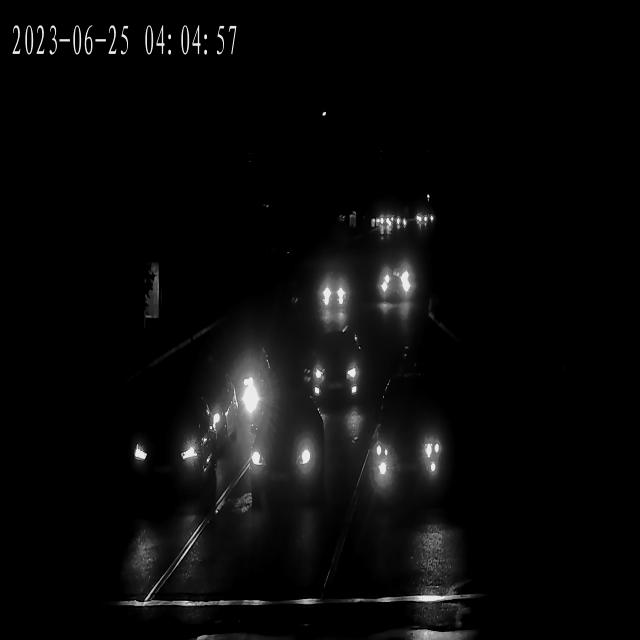Car: (366, 382, 448, 504), (120, 398, 219, 498), (242, 406, 326, 510), (152, 370, 242, 448), (221, 330, 276, 420), (300, 342, 360, 402), (371, 260, 413, 303), (318, 273, 352, 309), (412, 210, 433, 226), (370, 216, 387, 228), (389, 215, 404, 228)
